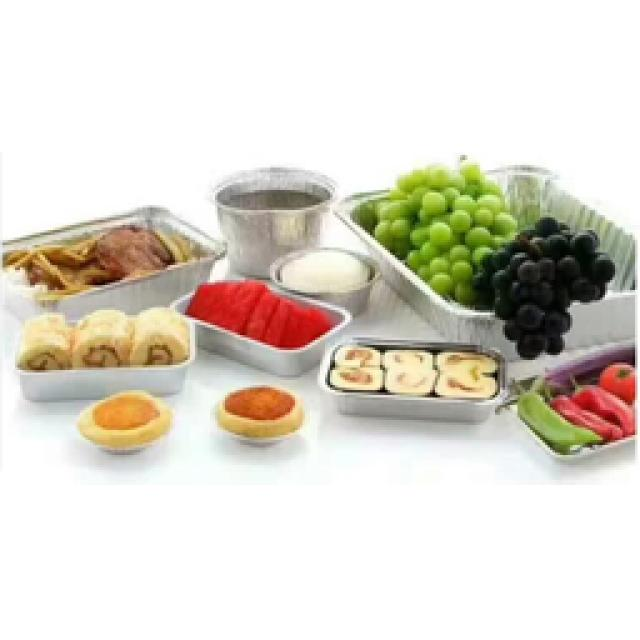alumunium: (332, 190, 518, 360), (485, 165, 632, 350), (318, 338, 505, 420), (188, 300, 350, 375), (40, 252, 218, 318), (215, 198, 328, 275), (15, 358, 190, 400), (270, 252, 375, 312)
